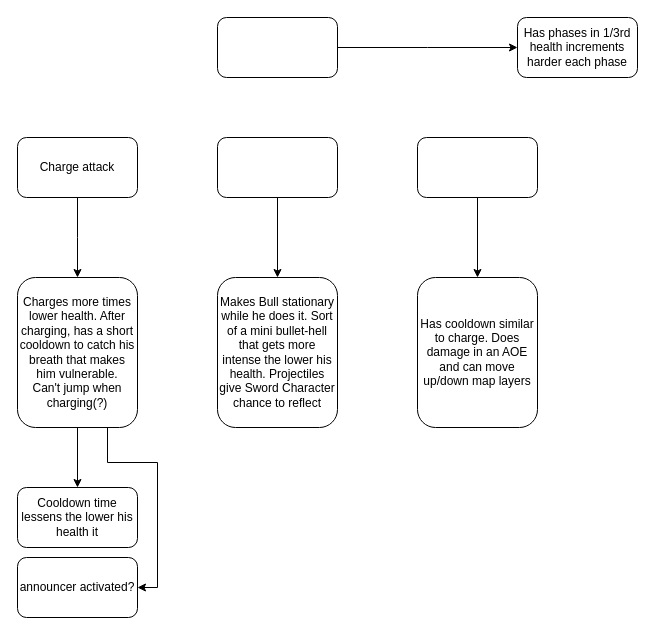
Some shapes in this 655 by 635 pixel diagram are drawn without their labels. Here are the shapes that lost their labels. From the top down, the centre of each, then its label:
At point 277,47: "BULL".
At point 277,167: "Rap music projectile attack".
At point 477,167: "Ground Pound".
